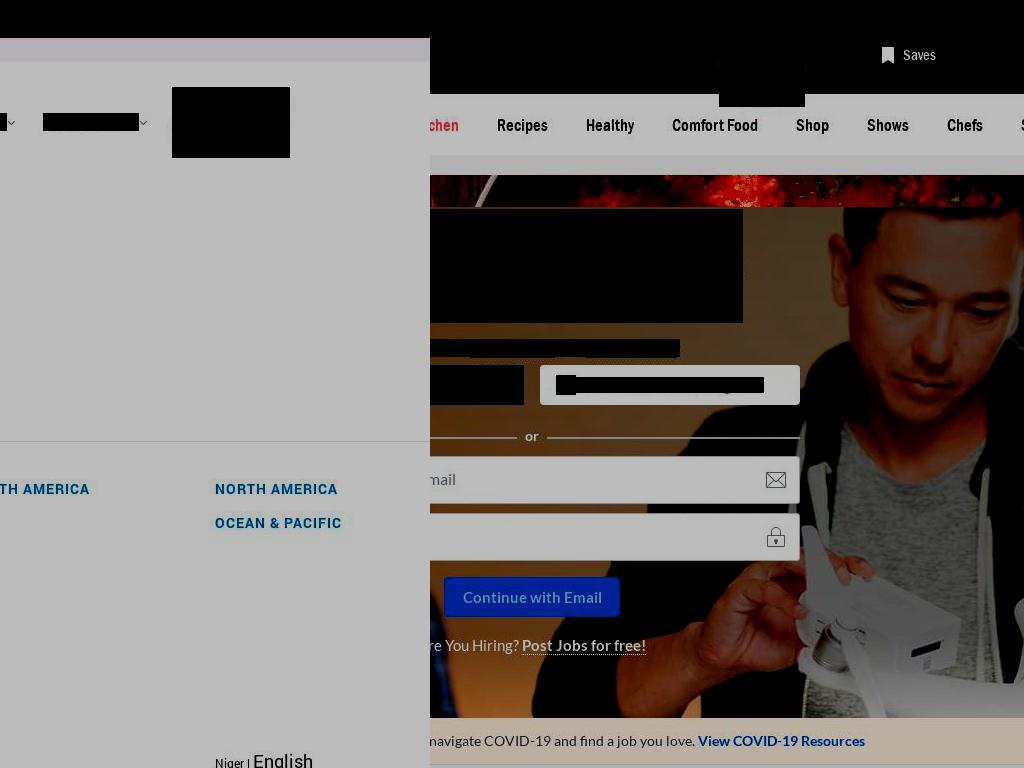button: (430, 718, 1024, 765), (0, 0, 430, 38), (540, 365, 800, 405), (172, 87, 290, 158), (444, 577, 620, 617), (430, 365, 524, 405), (214, 482, 430, 496), (214, 516, 430, 530), (0, 482, 185, 496), (0, 516, 185, 530), (0, 550, 185, 564), (522, 636, 646, 655), (873, 39, 937, 71), (585, 339, 677, 358), (470, 339, 555, 358), (435, 56, 461, 74), (468, 56, 494, 74), (501, 56, 527, 74)
field: (430, 456, 800, 504), (430, 513, 800, 561)
heading: (430, 209, 743, 323), (0, 664, 430, 709)
iframe: (430, 365, 524, 405)
image: (719, 21, 805, 107), (172, 103, 290, 144), (764, 468, 788, 492), (764, 525, 788, 549), (873, 47, 904, 64), (438, 44, 458, 64), (471, 44, 491, 64), (504, 44, 524, 64), (556, 375, 576, 395)
link: (697, 732, 865, 749), (671, 120, 758, 137), (252, 749, 313, 768), (496, 120, 548, 137), (585, 120, 634, 137), (547, 50, 602, 65), (866, 120, 909, 137), (946, 120, 983, 137), (795, 120, 829, 137), (625, 50, 647, 65)
text: (430, 732, 698, 749), (572, 377, 764, 393), (43, 113, 139, 131), (430, 636, 522, 654), (430, 377, 497, 393), (903, 47, 937, 69), (517, 426, 547, 446), (555, 339, 585, 357), (214, 755, 253, 768), (430, 120, 459, 137), (677, 339, 680, 357)
